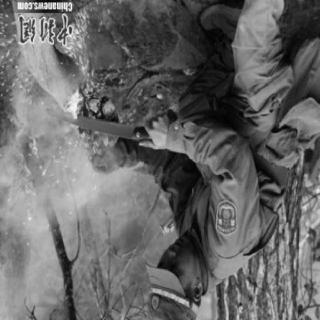Fire: (13, 135, 44, 193), (24, 202, 38, 228)
Smoke: (70, 170, 108, 218), (30, 242, 58, 282)
other: (103, 2, 307, 320)
